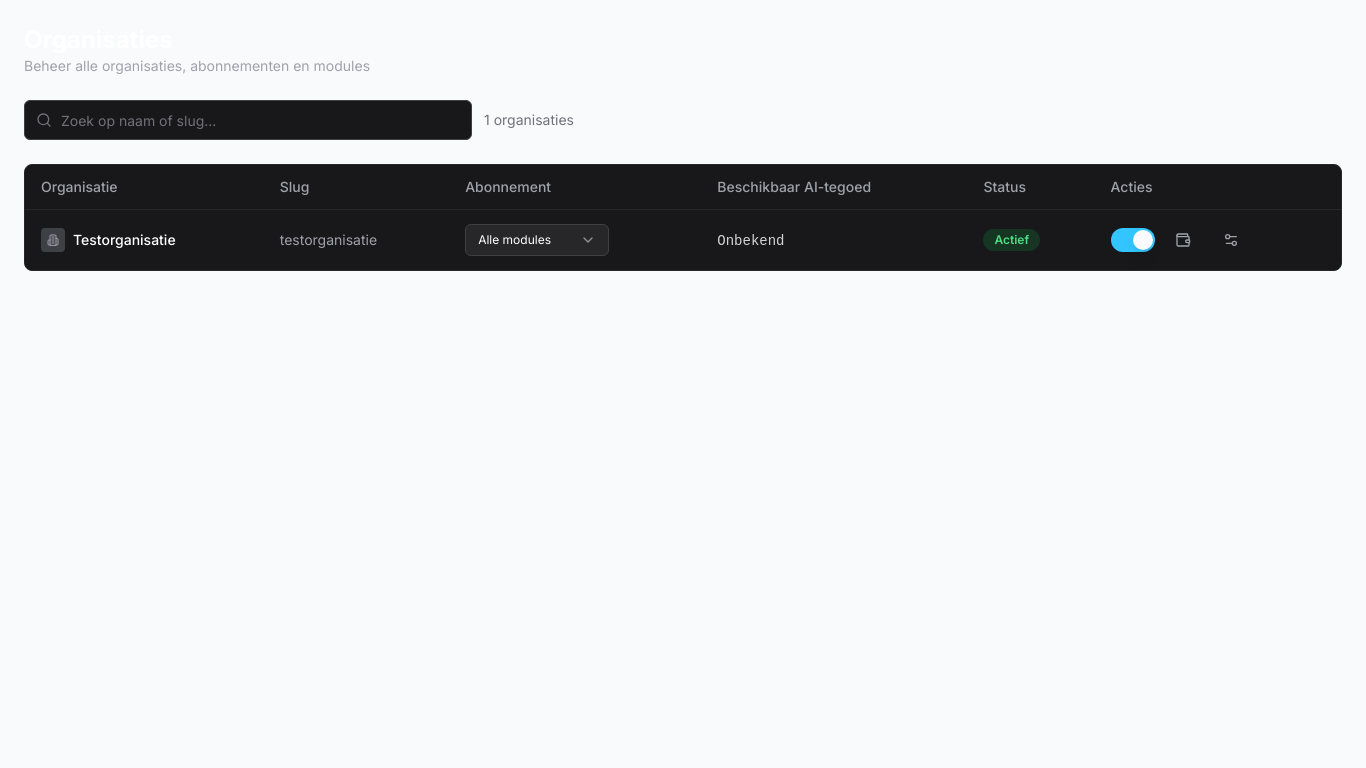
Test: SaaS administrator hours-module opt-in › defaults off even when the subscription plan contains the new module
The image size is (1366, 768).
Step 1. Click the button titled "Modules beheren" → click(1230, 240), box [1210,222,1250,258]
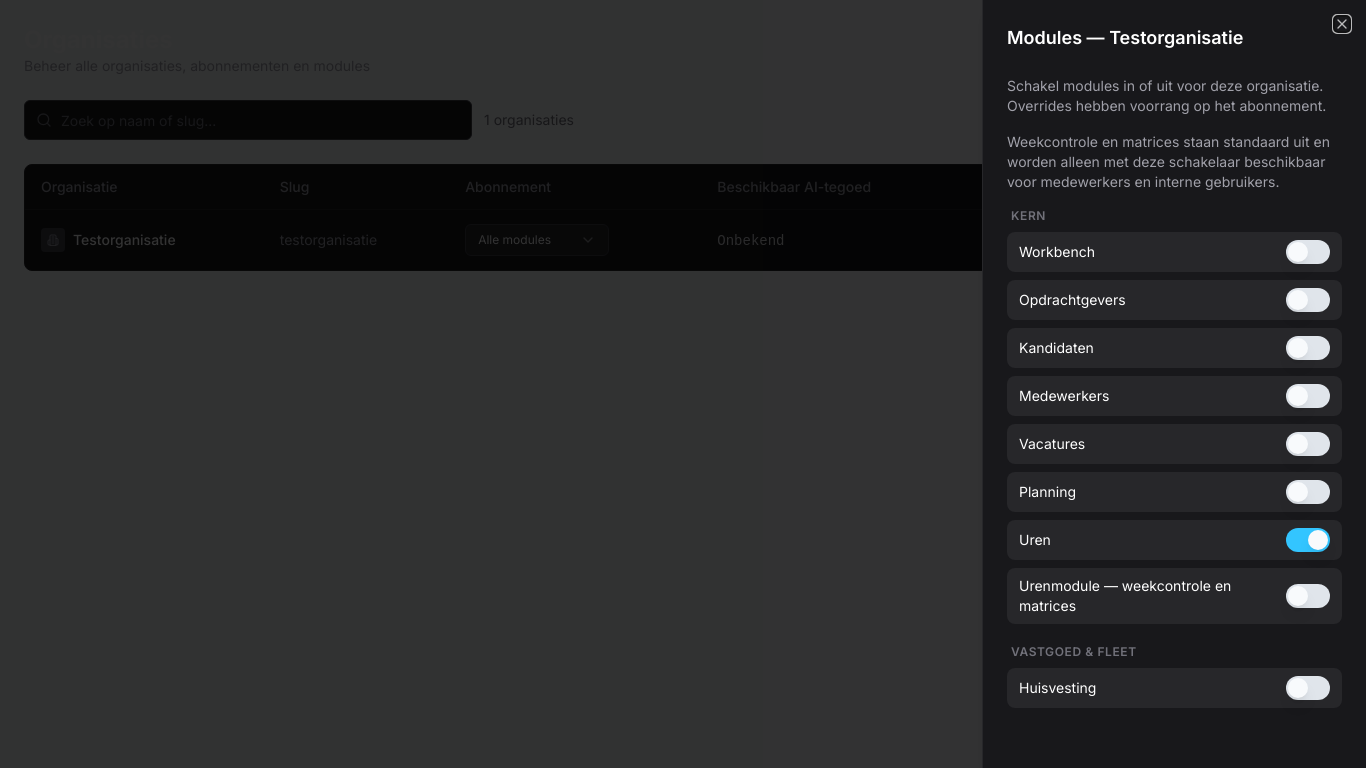
Result: the switch named "Urenmodule — weekcontrole en matrices" is enabled at [1286,584,1330,608]
